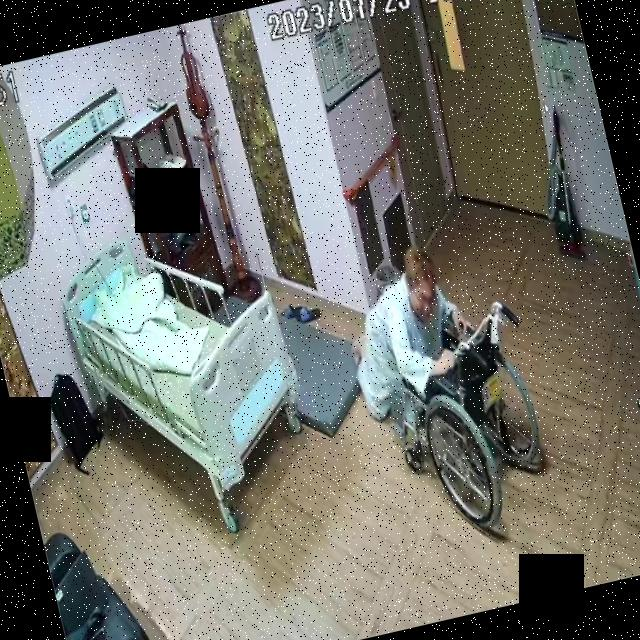fall: (330, 238, 490, 422)
patient: (331, 238, 488, 421)
